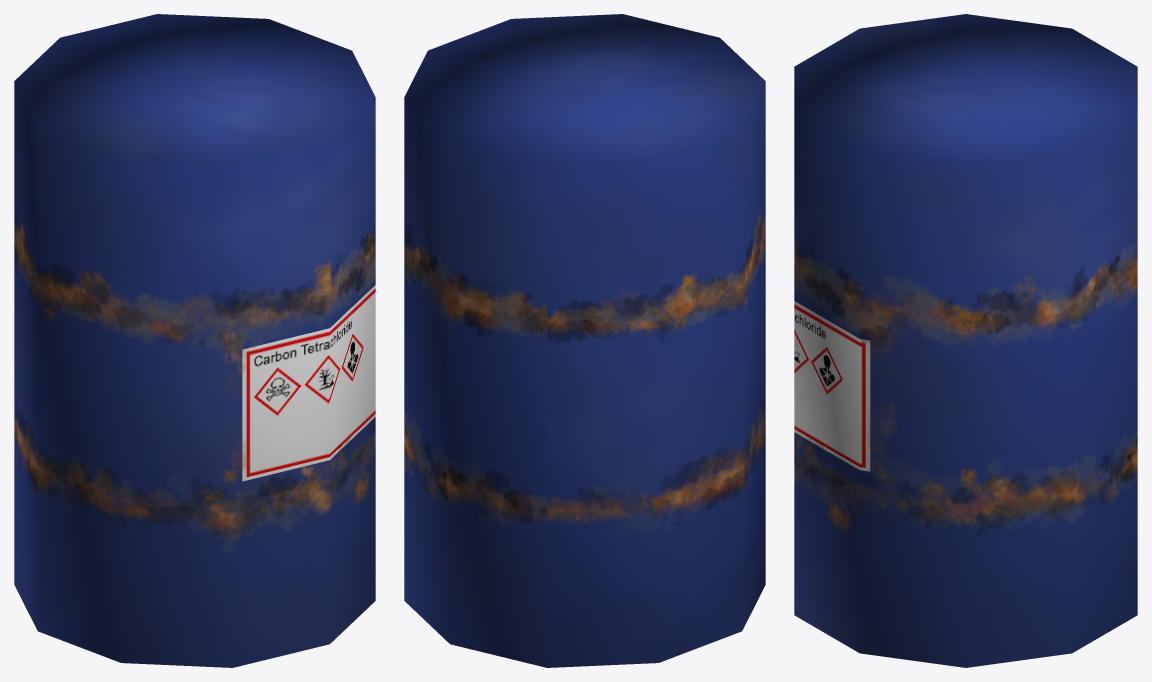
Rendered from carbonTetrachloride_False.fbx.
The picture shows the model from 3 angles, left to right: view 1: azimuth 30°, elevation 25°; view 2: azimuth 150°, elevation 25°; view 3: azimuth 270°, elevation 25°; orthographic projection.
Parts seen in each view (by area): view 1: carbonTetrachloride_False; view 2: carbonTetrachloride_False; view 3: carbonTetrachloride_False.
Boxes of the visible parts, x1,y1,x2,y2 form: carbonTetrachloride_False: (14, 14, 375, 667); carbonTetrachloride_False: (404, 14, 765, 667); carbonTetrachloride_False: (794, 14, 1137, 667).
Bounding box in the file's own units: 0.3862 × 0.5914 × 0.3673.
Materials: 1 (1 with a texture image).
